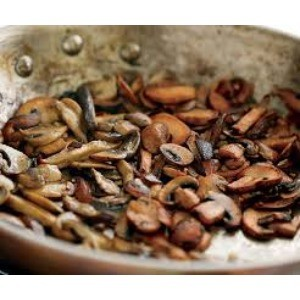mushroom_brain food: (59, 92, 249, 224)
